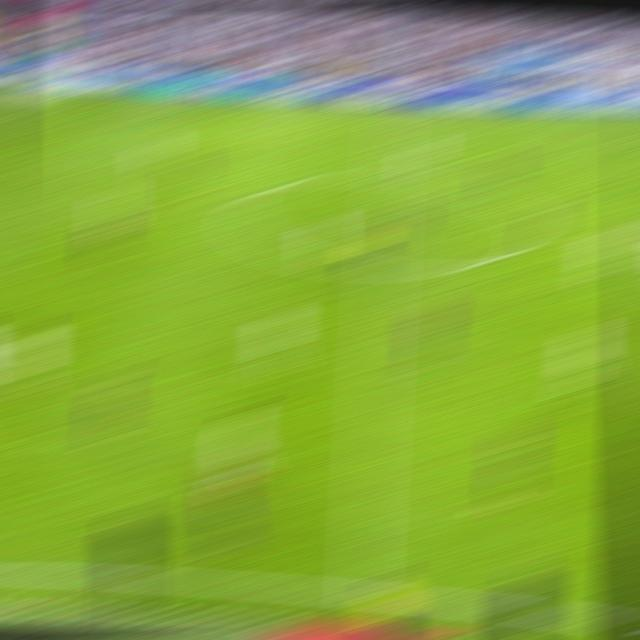halfcircle_bottom: (364, 259, 397, 277)
halfcircle_top: (371, 168, 402, 184)
midline_bottom_intersection: (344, 578, 382, 603)
midline_top_intersection: (377, 106, 404, 113)
